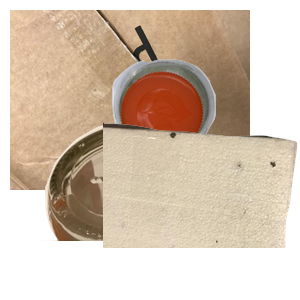cardboard: (10, 10, 250, 190)
glass: (22, 120, 233, 300)
plastic: (110, 57, 300, 205)
trash: (103, 120, 300, 300)
